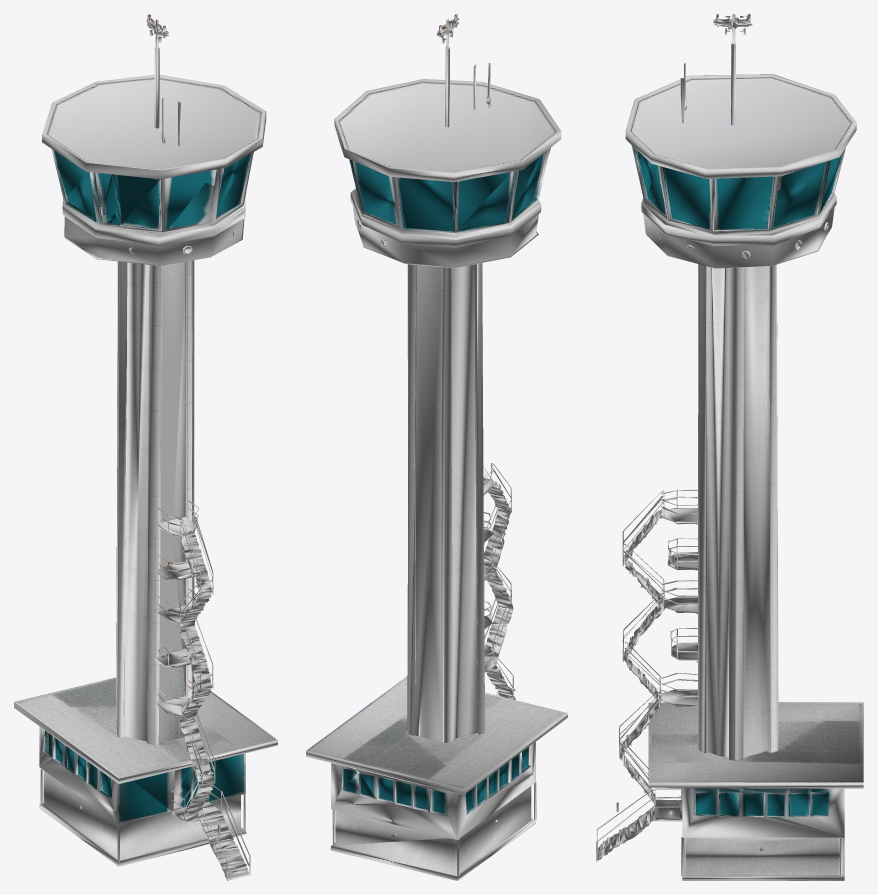
The model's file is ControlTower.fbx.
The picture shows the model from 3 angles, left to right: view 1: azimuth 30°, elevation 25°; view 2: azimuth 150°, elevation 25°; view 3: azimuth 270°, elevation 25°; orthographic projection. The views are drawn at different scales.
Visible parts, largest first — view 1: Mesh_0; view 2: Mesh_0; view 3: Mesh_0.
Boxes of the visible parts, x1,y1,x2,y2 form: Mesh_0: (14, 14, 277, 880); Mesh_0: (306, 14, 567, 880); Mesh_0: (596, 14, 863, 880).
Size of the model in its own units: 23.44 by 95.12 by 27.64.
Materials: 1 (1 with a texture image).
